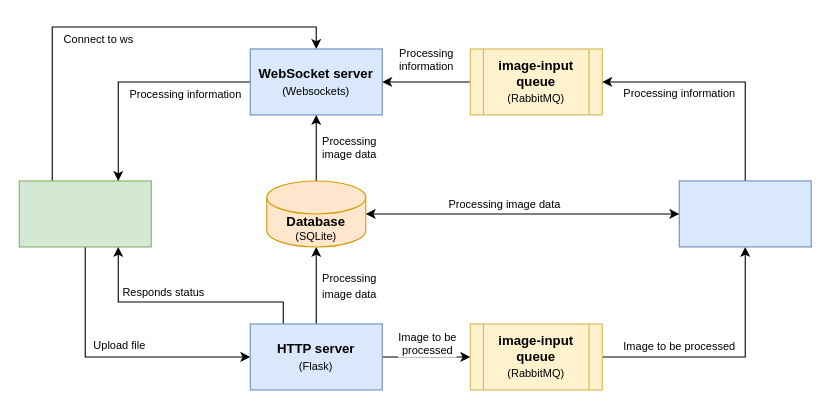
This 831x409 diagram has some shape labels left out. Each missing label, with the centre of its shape:
Frontend (JavaScript): the point at 84,213
Image processing Worker (Celery): the point at 744,213
